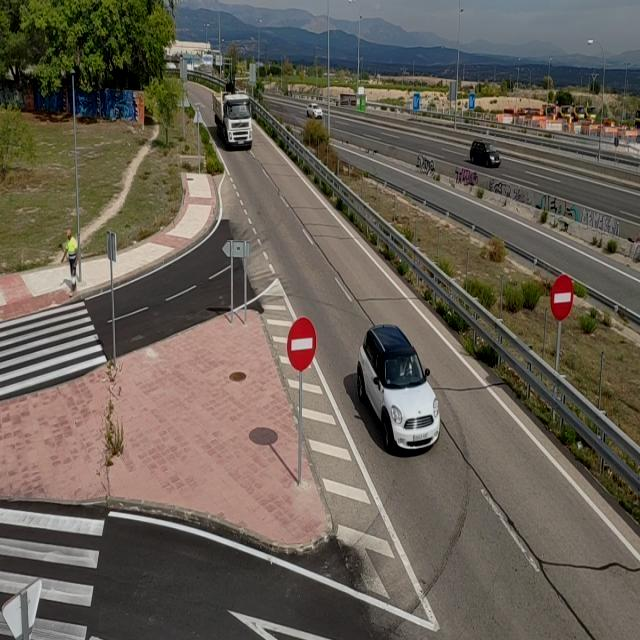Car: (356, 322, 444, 456), (468, 139, 503, 169), (306, 102, 325, 120)
Truck: (210, 83, 256, 154)
